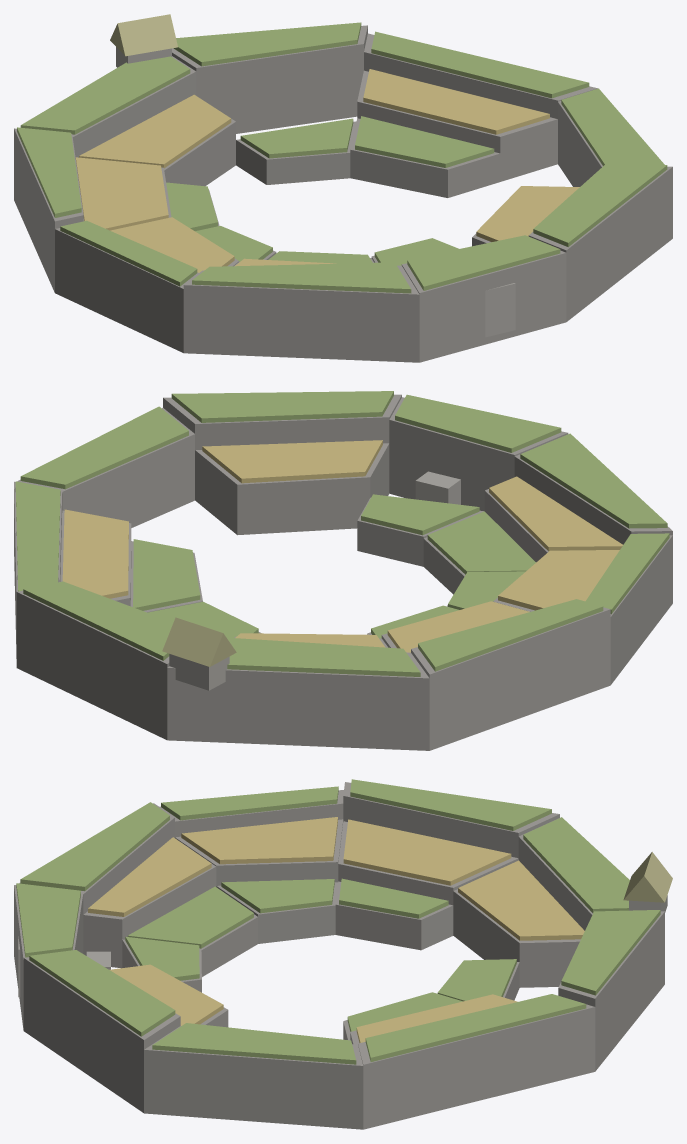
Rendered from terrace-farm.glb.
The picture shows the model from 3 angles, top to bottom: view 1: azimuth 30°, elevation 25°; view 2: azimuth 150°, elevation 25°; view 3: azimuth 270°, elevation 25°; orthographic projection. The views are drawn at different scales.
Parts seen in each view (by area): view 1: LOD0; view 2: LOD0; view 3: LOD0.
Part boxes in pixels (x1,y1,x2,y2): LOD0: (14,14,672,362); LOD0: (14,391,672,750); LOD0: (14,779,672,1129).
Size of what is drawn, in the model's own units: 1.61 by 0.3 by 1.63.
